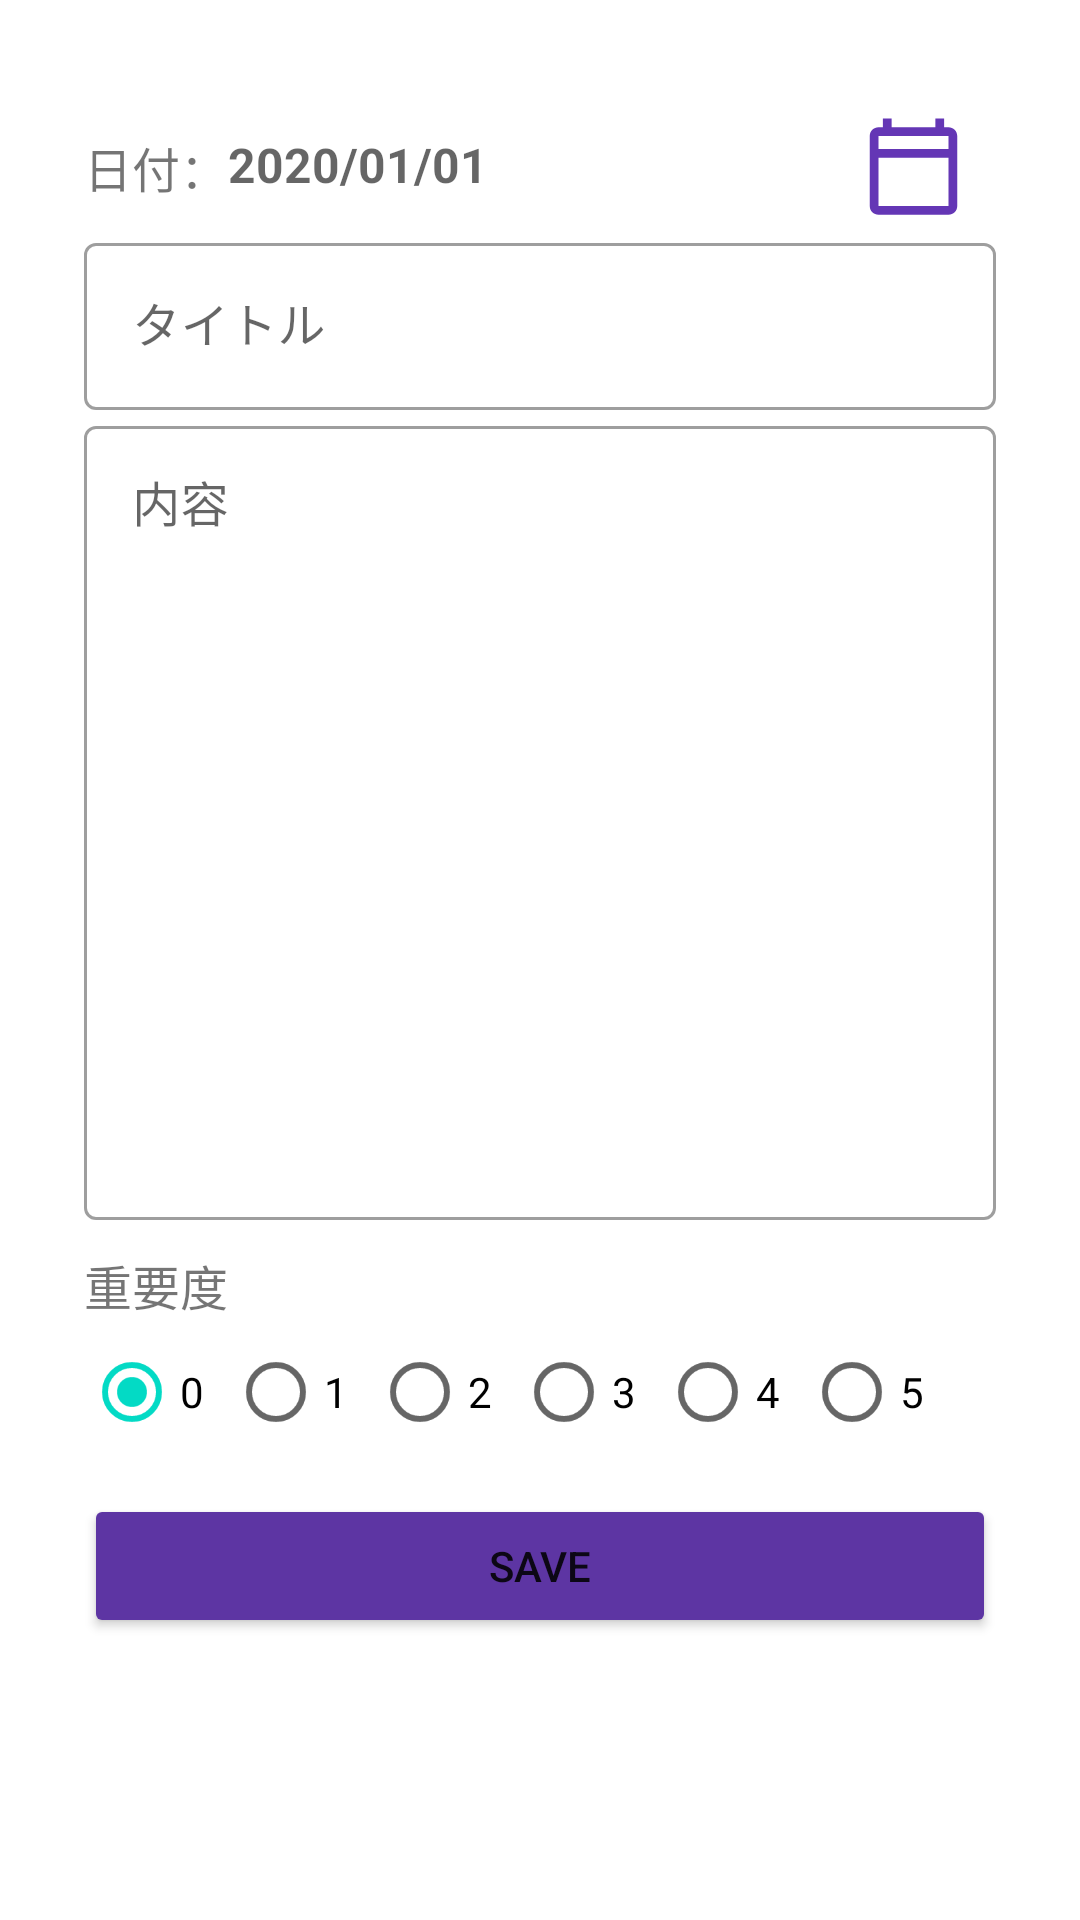

Icons on this 1080 × 1920 Android screen, each with its box as (left=x1, top=y1, right=x2, bottom=y2):
calendar today: (left=869, top=118, right=958, bottom=215)
